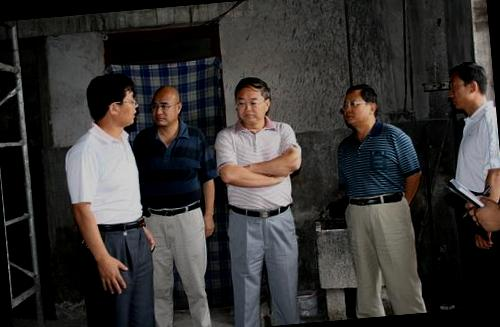no_helmet: (80, 68, 143, 136), (228, 70, 276, 128), (444, 56, 491, 115), (337, 80, 384, 134), (149, 81, 186, 130)
